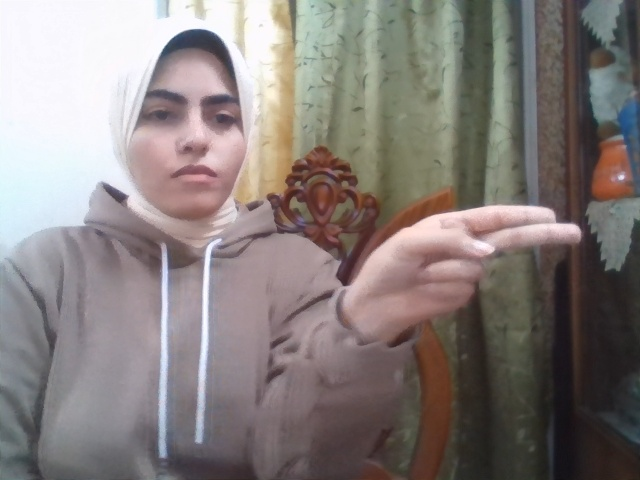H: (349, 205, 582, 329)
